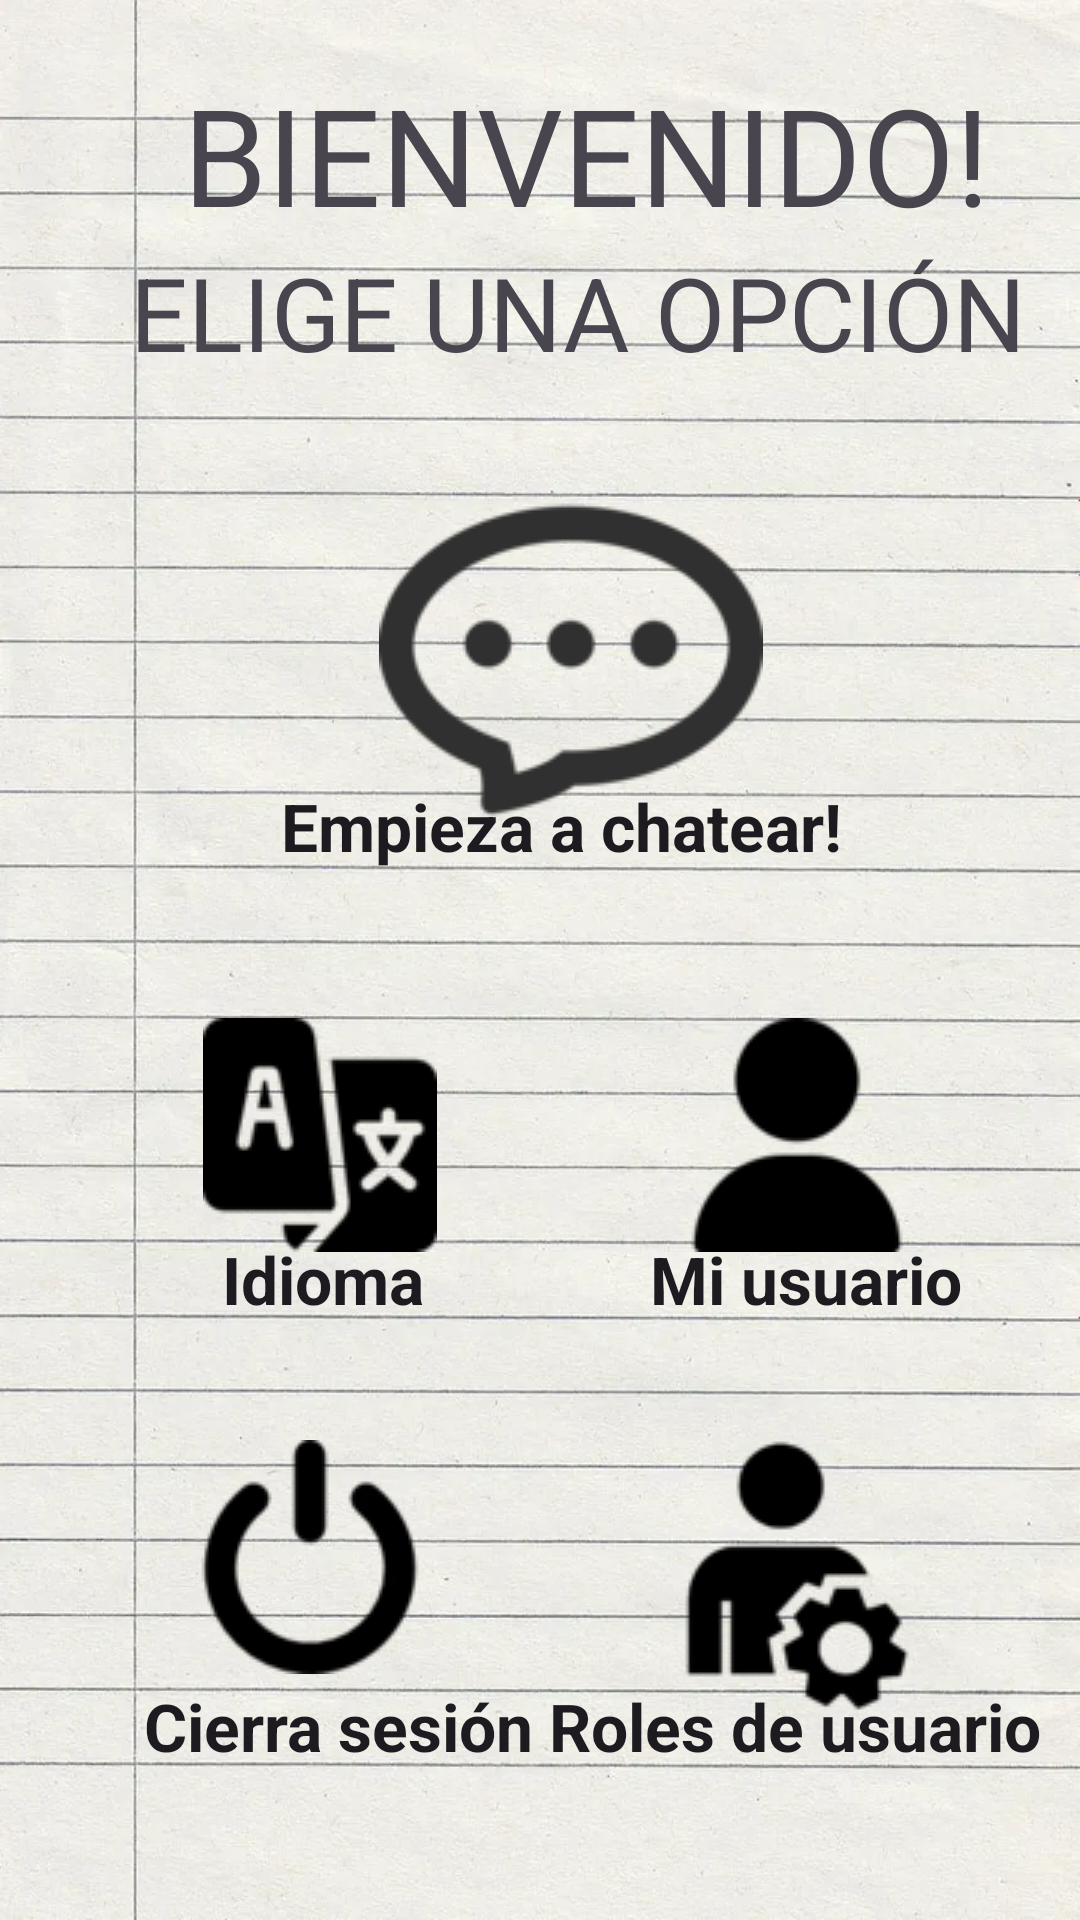

Point at icon controls on the screen. Image size 1080w x 1920h, points as [x,y].
admin: [797,1577]
